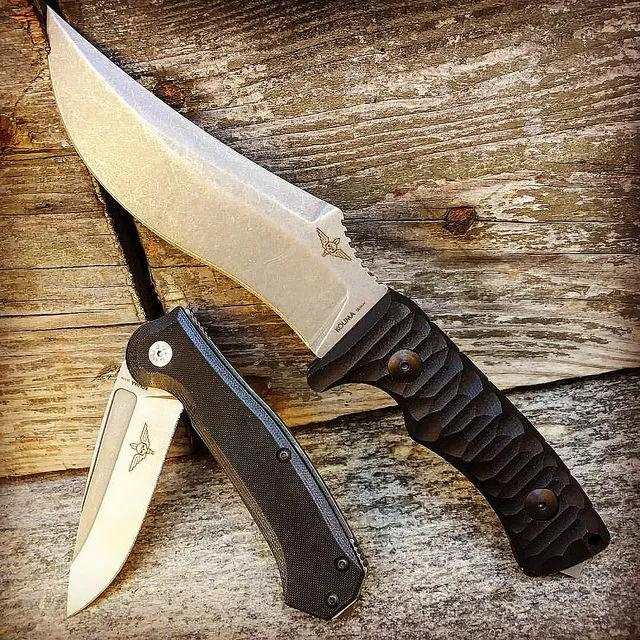knife: (22, 6, 608, 621)
